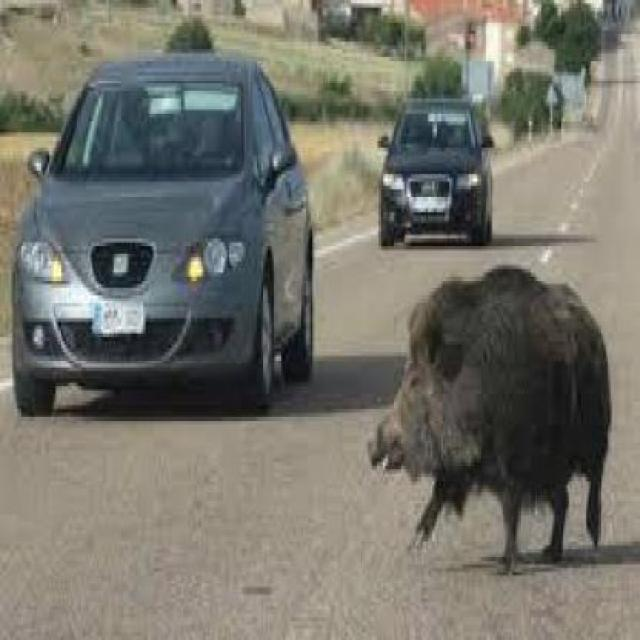wildboar: (362, 252, 622, 588)
